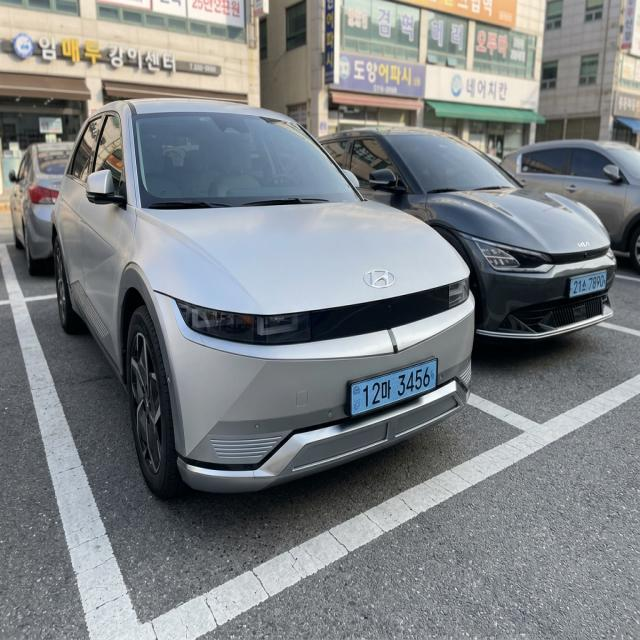car: (343, 351, 443, 424), (559, 262, 619, 312)
carev: (350, 380, 364, 418), (429, 359, 439, 394), (603, 269, 611, 295), (569, 276, 575, 302)
